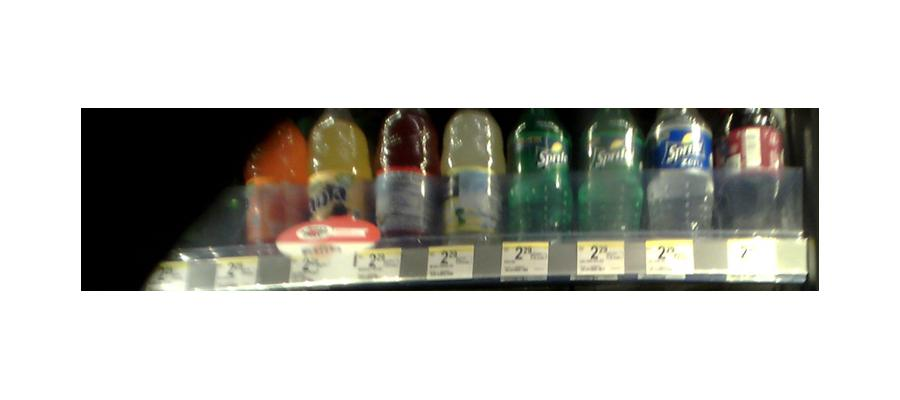bottle: (716, 107, 787, 234), (647, 103, 713, 235), (507, 107, 572, 237), (241, 117, 307, 245), (373, 107, 435, 241), (307, 107, 370, 238), (441, 107, 503, 240), (577, 109, 642, 235)
